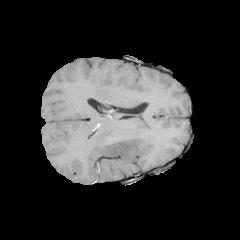glioma: (99, 112, 148, 165)
